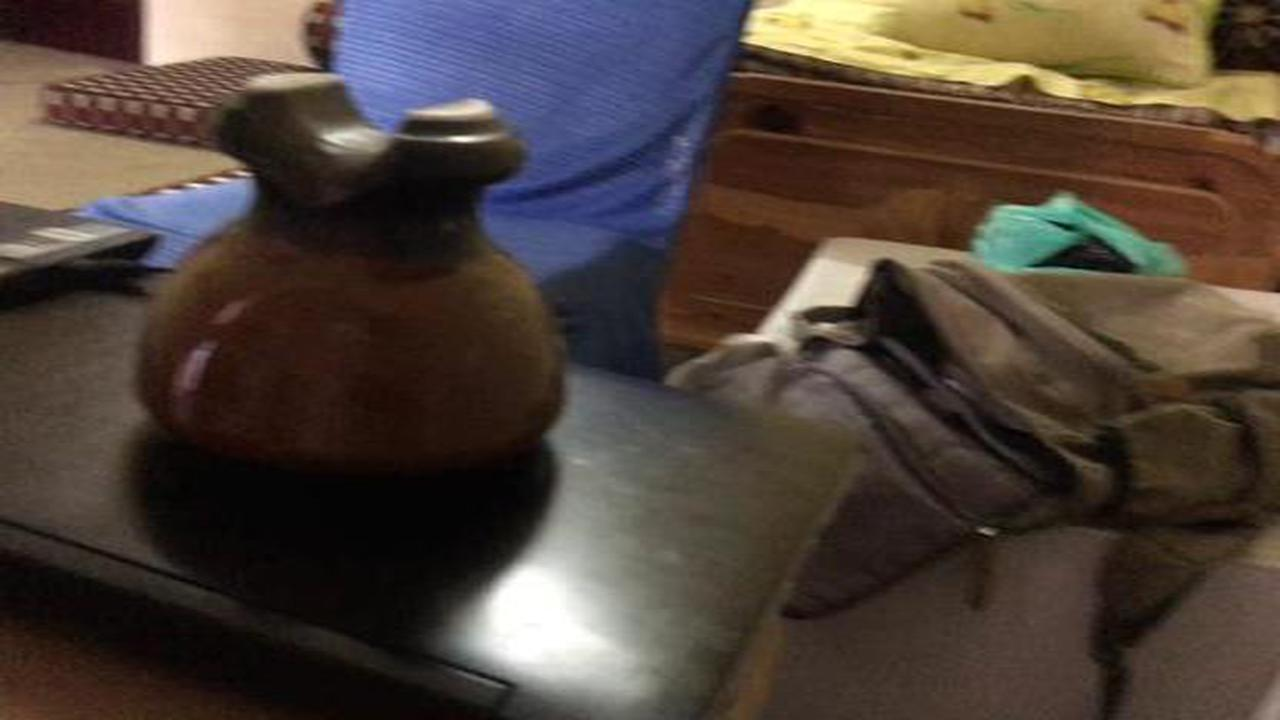insulator_pin: (117, 51, 594, 501)
